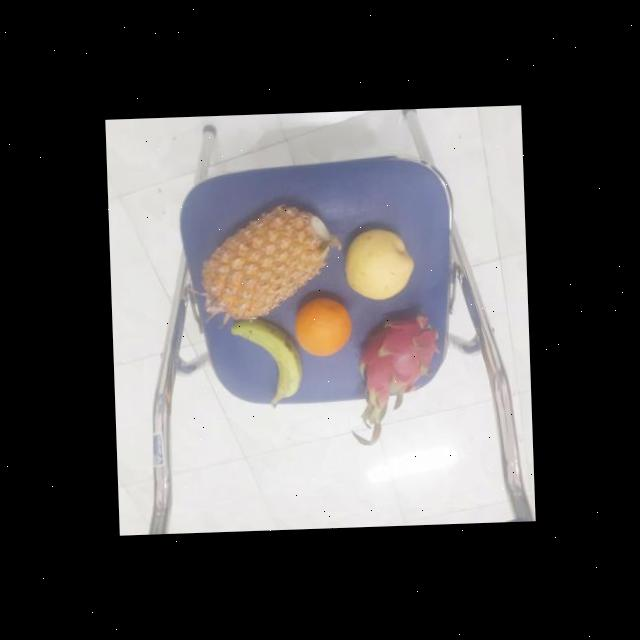banana: (224, 316, 304, 404)
orange: (290, 297, 354, 360)
pear: (341, 229, 417, 302)
pineapple: (198, 202, 332, 322)
pitaya: (352, 308, 442, 402)
